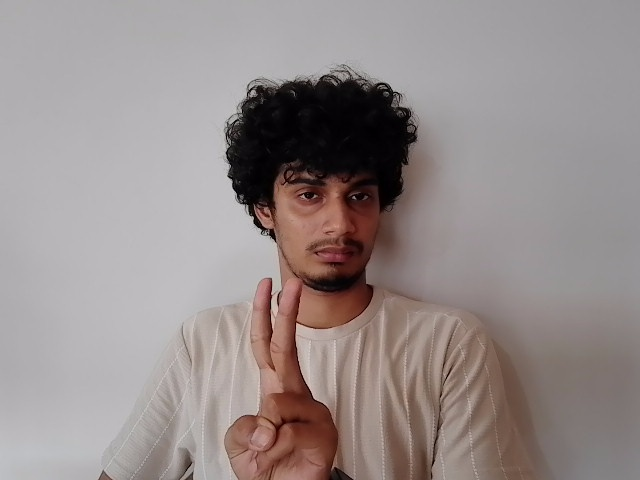travel: (218, 276, 353, 472)
